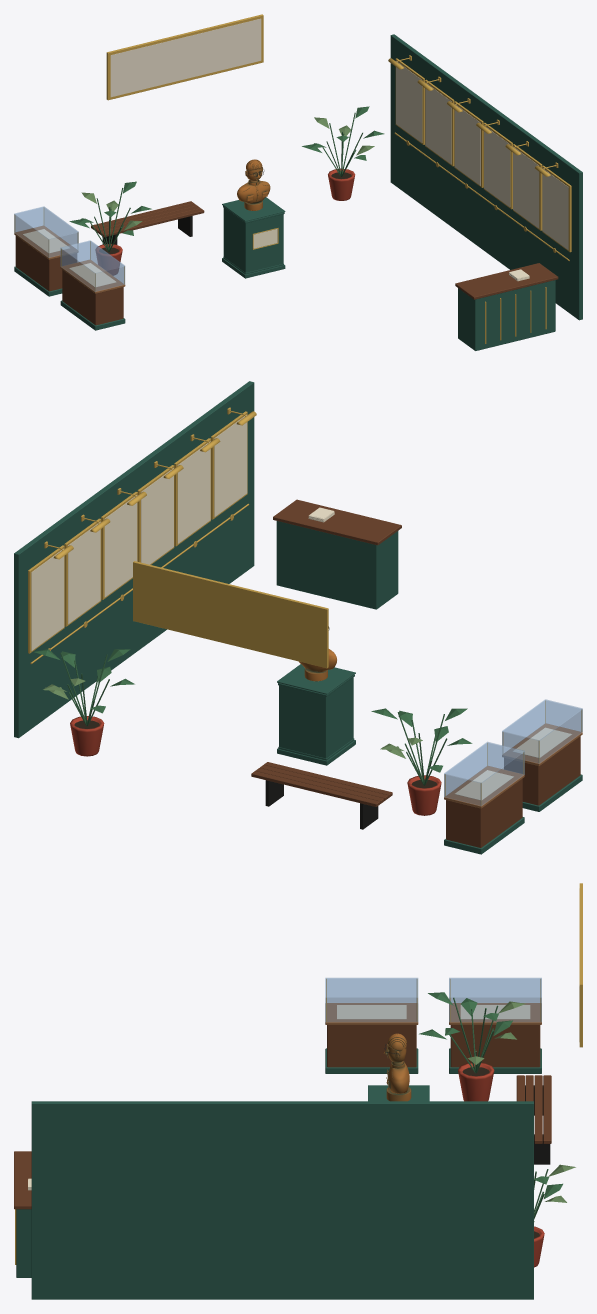
Rendered from S1_lobby.glb.
3 renders of one model, top to bottom at view 1: azimuth 30°, elevation 25°; view 2: azimuth 150°, elevation 25°; view 3: azimuth 270°, elevation 25°, orthographic. The views are drawn at different scales.
Parts seen in each view (by area): view 1: S1_2_static, S1_7_static, S1_4_static, SIGN_hallTitle, Statue_pedestal, S1_5_static, Lobby_bench, SIGN_timeline_01, SIGN_timeline_05, SIGN_timeline_06, SIGN_timeline_04, SIGN_timeline_02 (+6 smaller); view 2: S1_2_static, S1_7_static, Hall_title_brass_frame, S1_4_static, Statue_pedestal, S1_5_static, Lobby_bench, SIGN_timeline_06, SIGN_timeline_02, SIGN_timeline_01, SIGN_timeline_04, SIGN_timeline_05 (+4 smaller); view 3: S1_2_static, S1_7_static, S1_5_static, S1_4_static, Lobby_bench, Statue_bronze_bust, SIGN_vitrine_01, SIGN_vitrine_02, Statue_pedestal, Hall_title_brass_frame.
Boxes of the visible parts, x1,y1,x2,y2 form: S1_2_static: [390, 34, 582, 320]; S1_7_static: [14, 206, 125, 330]; S1_4_static: [455, 263, 558, 350]; SIGN_hallTitle: [110, 18, 261, 97]; Statue_pedestal: [222, 197, 285, 278]; S1_5_static: [69, 106, 384, 275]; Lobby_bench: [91, 201, 204, 244]; SIGN_timeline_01: [542, 168, 568, 249]; SIGN_timeline_05: [425, 82, 451, 164]; SIGN_timeline_06: [396, 61, 422, 142]; SIGN_timeline_04: [454, 104, 480, 185]; SIGN_timeline_02: [513, 146, 539, 228]; S1_2_static: [14, 381, 254, 738]; S1_7_static: [444, 699, 582, 854]; Hall_title_brass_frame: [133, 561, 328, 668]; S1_4_static: [273, 499, 401, 609]; Statue_pedestal: [277, 664, 355, 765]; S1_5_static: [34, 649, 472, 815]; Lobby_bench: [251, 762, 392, 829]; SIGN_timeline_06: [31, 549, 64, 650]; SIGN_timeline_02: [177, 441, 210, 543]; SIGN_timeline_01: [214, 415, 247, 516]; SIGN_timeline_04: [104, 495, 137, 597]; SIGN_timeline_05: [68, 522, 100, 624]; S1_2_static: [31, 1101, 533, 1299]; S1_7_static: [325, 977, 541, 1073]; S1_5_static: [419, 992, 575, 1267]; S1_4_static: [14, 1151, 31, 1277]; Lobby_bench: [516, 1075, 551, 1164]; Statue_bronze_bust: [384, 1033, 411, 1101]; SIGN_vitrine_01: [337, 1005, 406, 1019]; SIGN_vitrine_02: [460, 1005, 530, 1019]; Statue_pedestal: [368, 1085, 429, 1101]; Hall_title_brass_frame: [579, 883, 582, 1047].
Bounding box in the file's own units: 7.51 × 3.45 × 7.36.
Materials: 16 (1 with a texture image).
